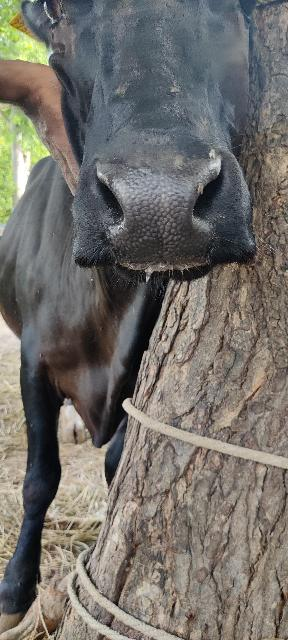Muzzle: (104, 172, 204, 262)
